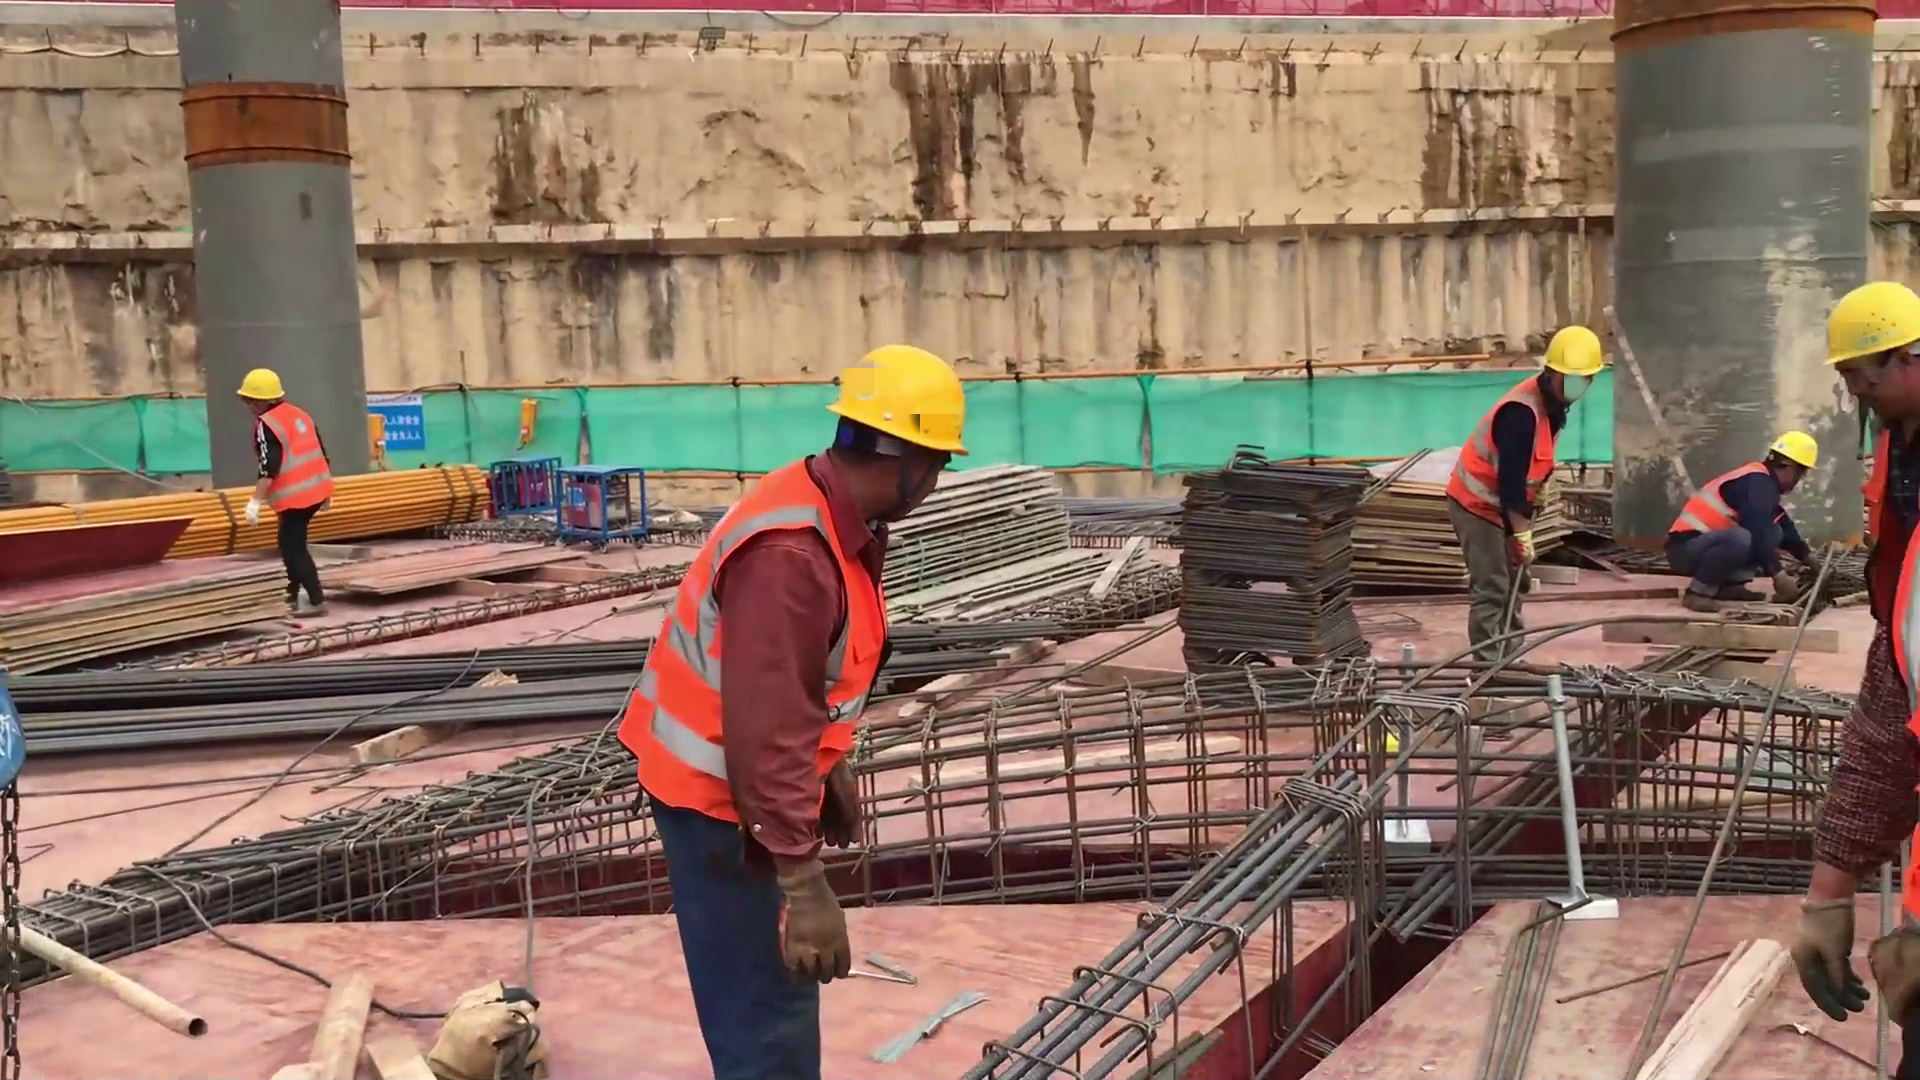board: (1, 549, 289, 680), (1361, 461, 1465, 590)
helmet: (823, 344, 969, 456), (1822, 280, 1913, 368), (1544, 325, 1604, 375), (1768, 431, 1818, 470), (237, 367, 284, 400)
person: (611, 341, 971, 1080), (1446, 325, 1607, 663), (1663, 429, 1825, 611), (1818, 276, 1920, 549), (237, 366, 338, 619)
rebar: (25, 635, 634, 768)
slogan: (386, 393, 422, 451)
vest: (615, 450, 890, 842), (1448, 377, 1561, 530), (253, 403, 333, 517), (1668, 463, 1776, 540)
